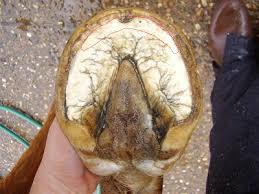horsesole: (55, 6, 204, 133)
